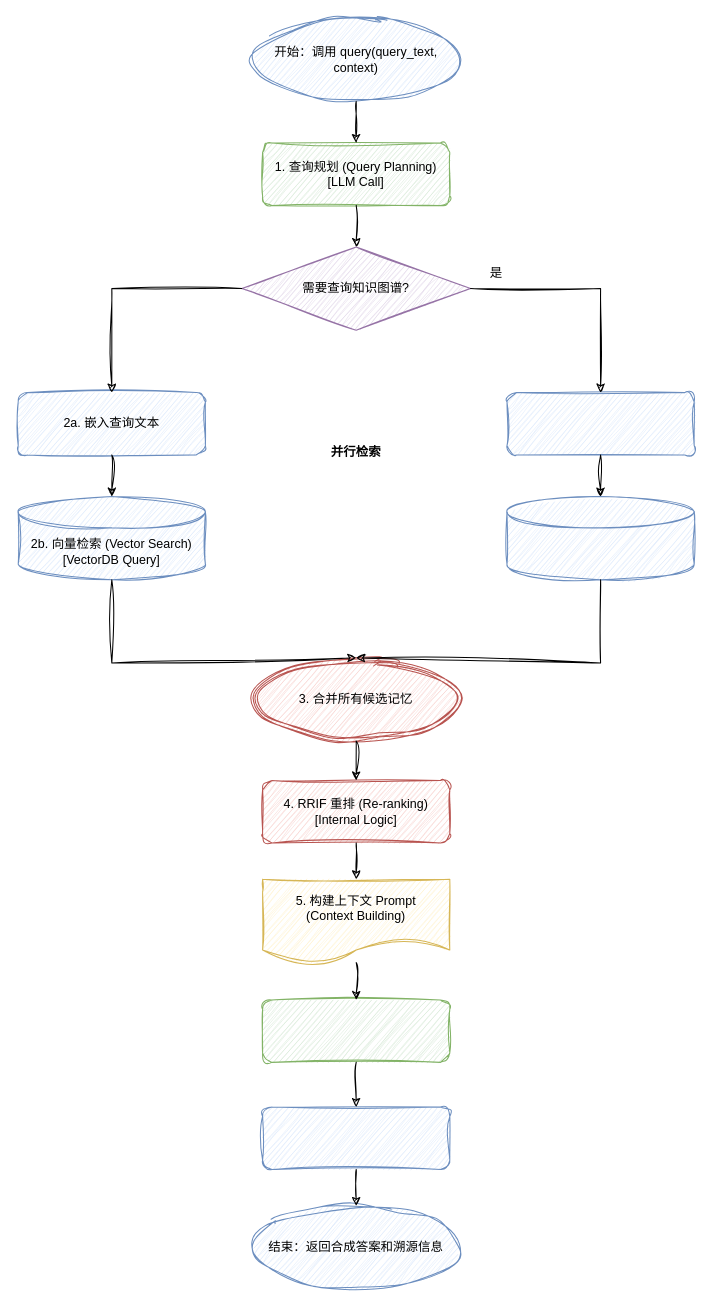
This 712x1307 diagram has some shape labels left out. Each missing label, with the centre of its shape:
2c. 生成图查询语句 (e.g., Cypher): point 600,423
2d. 图谱查询 (Graph Query) [GraphDB Query]: point 600,538
6. 结果合成 (Result Synthesis) [LLM Call]: point 356,1030
7. 更新记忆频率 (Frequency Update): point 356,1137
